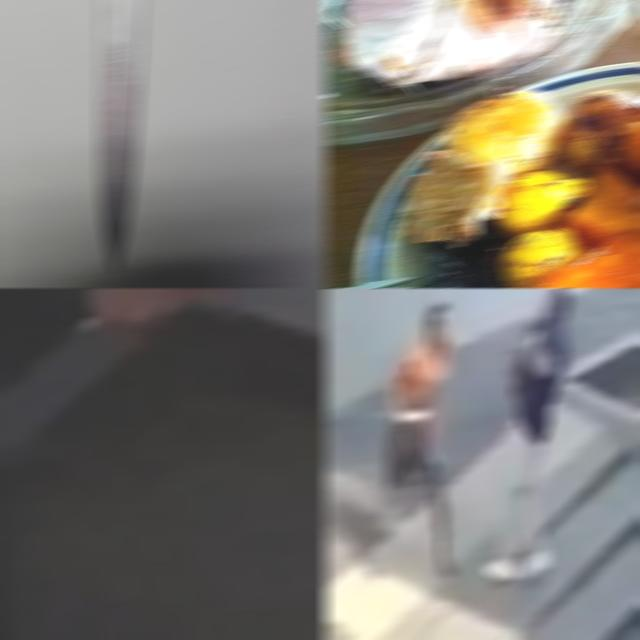Knife: (0, 318, 146, 502), (97, 0, 146, 272)
Knife_Handle: (0, 288, 216, 508), (392, 408, 432, 420), (398, 411, 434, 422)
